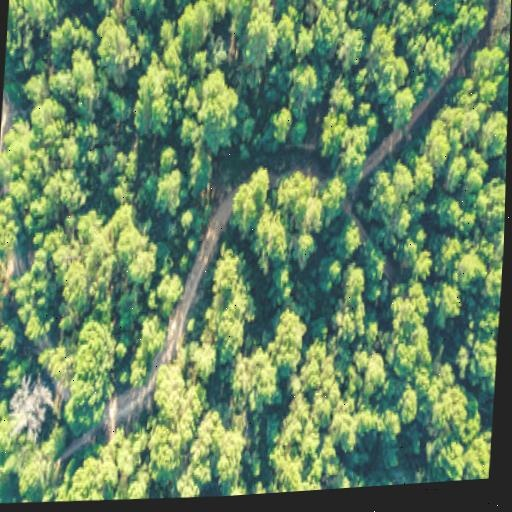tree-top: (63, 329, 116, 437), (382, 280, 434, 385), (60, 220, 113, 319), (271, 400, 319, 492), (12, 252, 53, 348), (363, 16, 410, 97), (419, 366, 469, 442), (195, 70, 238, 155), (98, 12, 144, 89), (133, 64, 177, 141), (282, 163, 327, 236), (407, 24, 453, 94), (17, 429, 60, 502), (96, 426, 140, 496), (230, 165, 271, 240), (144, 421, 185, 491), (441, 81, 485, 146), (56, 43, 96, 114), (225, 344, 277, 398), (217, 284, 255, 357), (329, 397, 377, 454), (241, 0, 282, 65), (8, 382, 48, 445), (254, 210, 290, 278), (174, 376, 209, 445), (472, 167, 506, 237), (315, 101, 350, 167), (337, 122, 373, 186), (208, 427, 245, 487), (26, 97, 66, 152), (474, 40, 508, 103), (319, 160, 352, 224), (0, 118, 34, 179), (270, 299, 310, 348), (105, 144, 140, 200), (152, 360, 184, 421), (329, 293, 365, 347), (300, 339, 336, 391), (420, 114, 452, 172), (21, 181, 53, 239), (186, 412, 219, 468), (476, 107, 508, 164), (50, 167, 83, 222), (262, 96, 299, 145), (72, 453, 109, 502), (118, 239, 161, 281), (368, 169, 400, 225), (453, 240, 487, 292), (459, 426, 491, 480), (210, 240, 242, 294), (180, 144, 212, 198), (430, 434, 465, 482), (310, 377, 340, 430), (385, 81, 418, 129), (391, 155, 434, 191), (445, 148, 485, 186), (352, 344, 388, 386), (468, 337, 498, 386), (314, 4, 340, 59), (49, 10, 74, 67), (169, 464, 209, 499), (115, 283, 142, 334), (151, 268, 189, 304), (454, 1, 487, 42), (286, 56, 322, 92), (431, 190, 469, 224), (339, 25, 366, 72), (432, 277, 464, 316), (228, 0, 257, 43), (323, 72, 355, 109), (135, 306, 167, 343), (105, 85, 132, 128), (287, 230, 316, 270), (0, 190, 16, 262), (395, 381, 420, 426), (291, 17, 322, 52), (5, 0, 24, 56), (375, 407, 398, 453), (338, 258, 368, 293), (317, 254, 342, 296), (337, 215, 367, 250), (191, 0, 215, 43), (365, 247, 389, 288), (124, 353, 149, 392), (3, 351, 25, 395), (24, 0, 55, 31), (410, 246, 434, 286), (433, 234, 463, 265), (154, 163, 183, 195), (392, 200, 412, 243), (110, 193, 138, 223), (184, 335, 212, 364), (482, 265, 502, 305), (190, 43, 211, 80), (353, 0, 408, 14), (0, 316, 21, 350), (0, 409, 13, 459), (289, 0, 348, 11), (155, 141, 178, 167), (139, 0, 164, 23), (434, 0, 469, 16), (174, 204, 198, 227), (208, 0, 229, 23), (251, 478, 279, 494), (224, 484, 250, 496), (0, 275, 6, 325), (501, 0, 512, 24), (0, 475, 8, 504), (363, 480, 396, 487), (467, 0, 492, 2)
